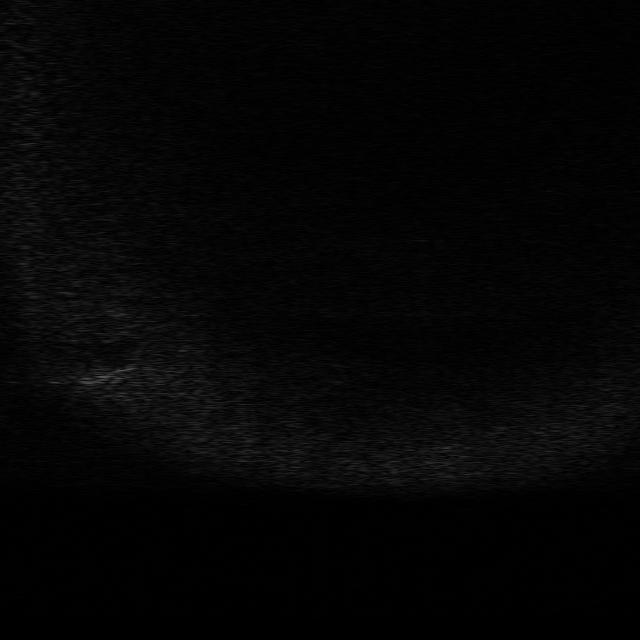plane: (57, 358, 132, 397)
